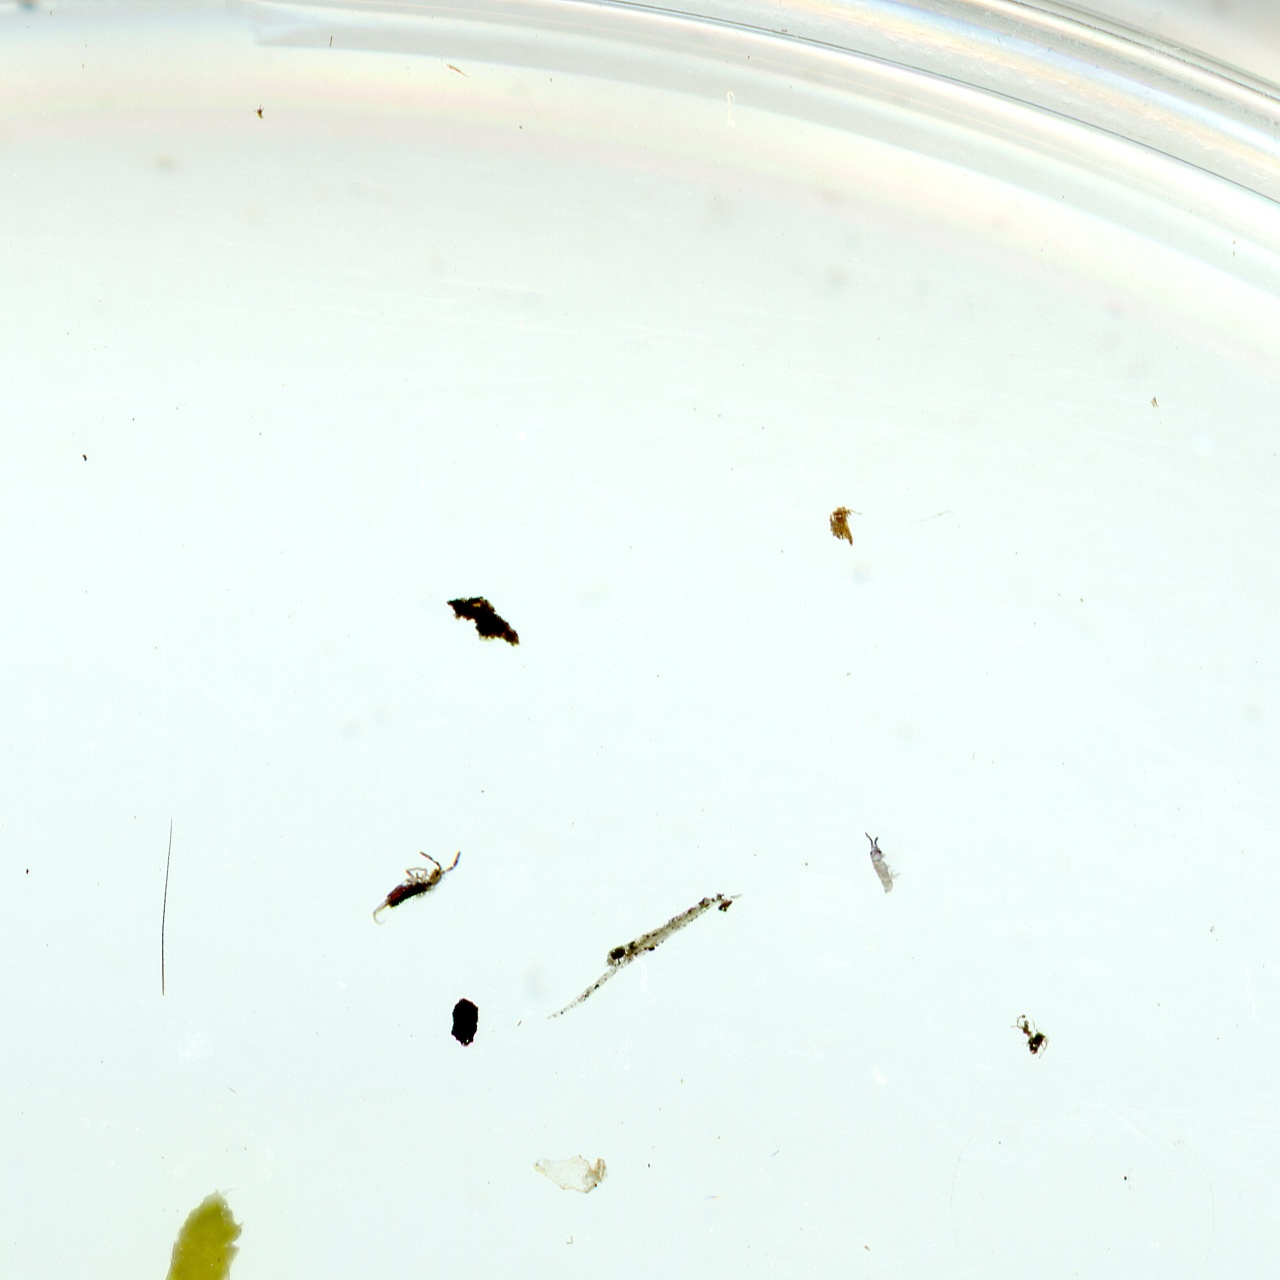arthropod: (350, 828, 482, 932), (856, 824, 907, 897)
